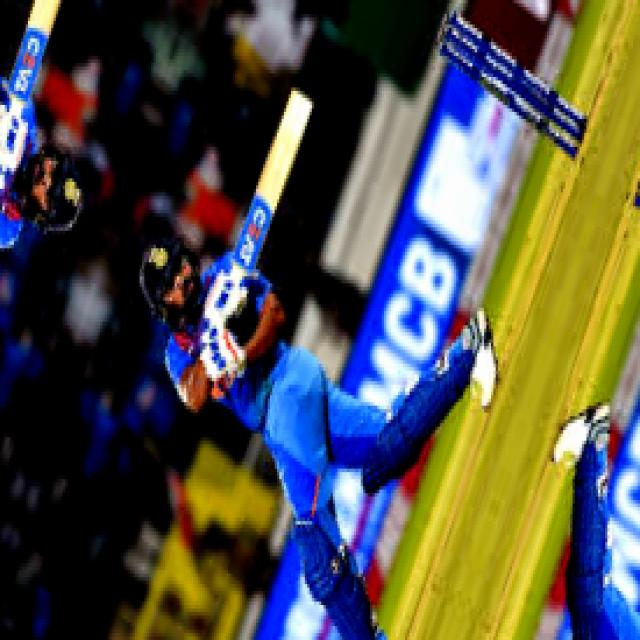toe: (286, 89, 314, 120)
